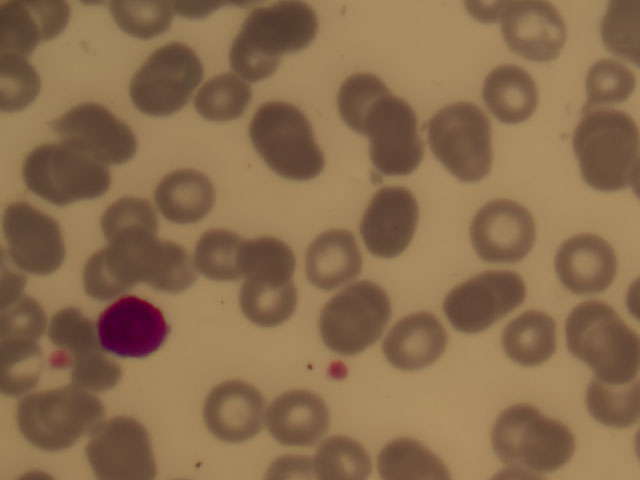Platelets: (329, 359, 354, 384), (48, 349, 71, 371)
RBC: (151, 39, 212, 97), (125, 64, 186, 122), (61, 94, 122, 152), (47, 144, 108, 202), (22, 144, 83, 202), (6, 205, 67, 263), (94, 187, 155, 245), (118, 225, 179, 283), (77, 238, 138, 296), (160, 167, 221, 225), (190, 225, 251, 283), (242, 228, 303, 286), (239, 269, 300, 327), (301, 233, 362, 291), (272, 136, 333, 194), (243, 87, 304, 145), (197, 67, 258, 125), (219, 28, 280, 86), (259, 1, 320, 59), (335, 67, 396, 125), (356, 92, 417, 150), (367, 130, 428, 188), (421, 91, 482, 149), (434, 136, 495, 194), (481, 65, 542, 123), (579, 46, 640, 104), (579, 99, 640, 157), (579, 137, 640, 195), (472, 207, 533, 265), (558, 237, 619, 295), (475, 261, 536, 319), (433, 286, 494, 344), (383, 321, 444, 379), (313, 297, 374, 355), (340, 276, 401, 334), (505, 310, 566, 368), (554, 290, 615, 348), (579, 330, 640, 388), (579, 376, 640, 434), (529, 422, 590, 480), (486, 391, 547, 449), (380, 422, 441, 480), (312, 422, 373, 480), (260, 389, 321, 447), (202, 380, 263, 438), (91, 416, 152, 474), (44, 382, 105, 440), (14, 390, 75, 448), (500, 1, 561, 58), (1, 1, 62, 58)
WBC: (90, 291, 180, 358)
